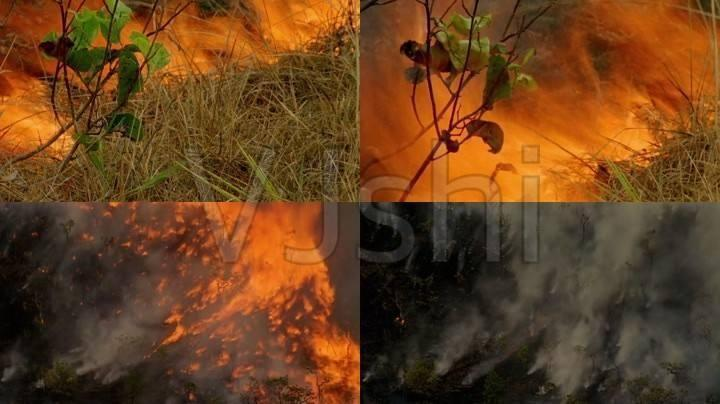fire: (380, 28, 708, 187), (139, 195, 351, 386), (11, 3, 352, 98), (0, 70, 76, 163)
